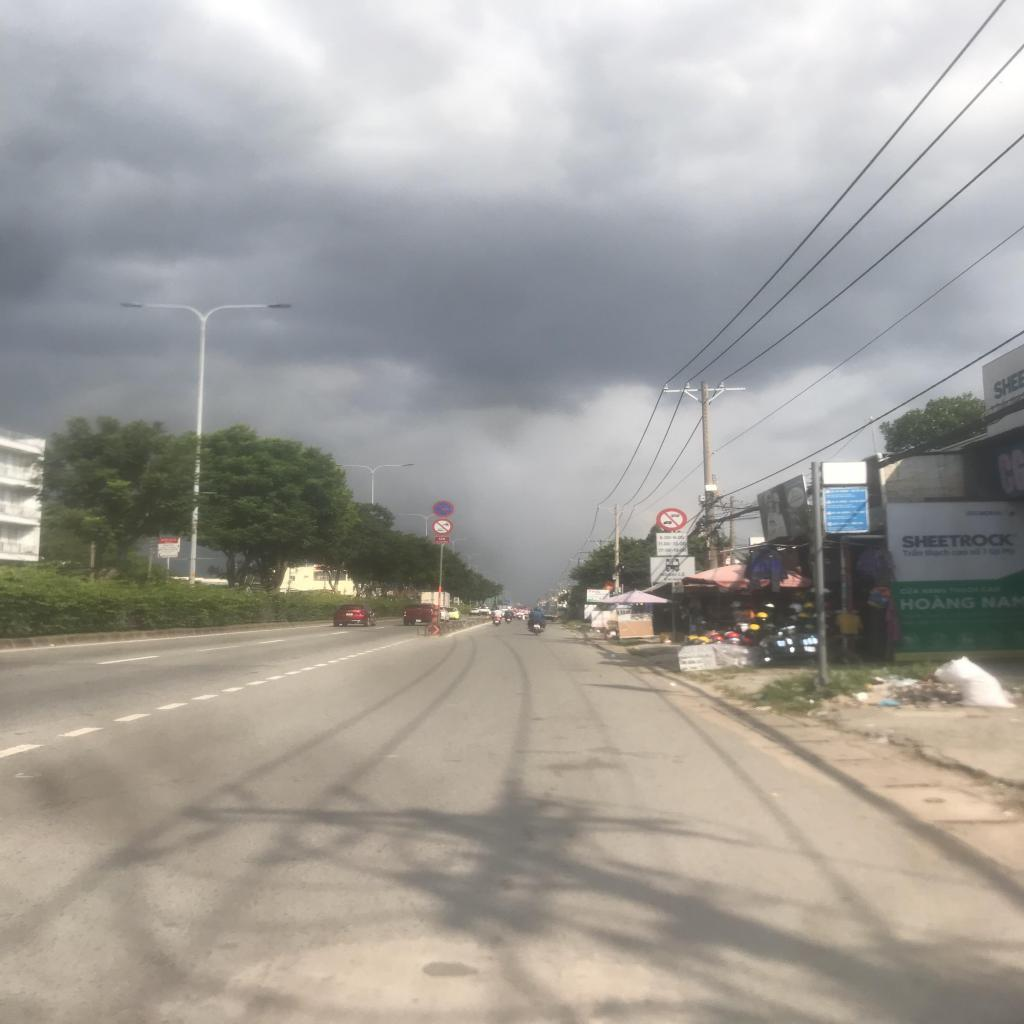cam_dung_xe_va_do_xe: (432, 500, 454, 518)
cam_o_to_tai_va_xe_khach: (656, 508, 688, 531)
cam_xe_2_banh_va_xe_3_banh_co_dong_co: (432, 518, 452, 536)
khac: (649, 557, 695, 582), (656, 534, 688, 556)
